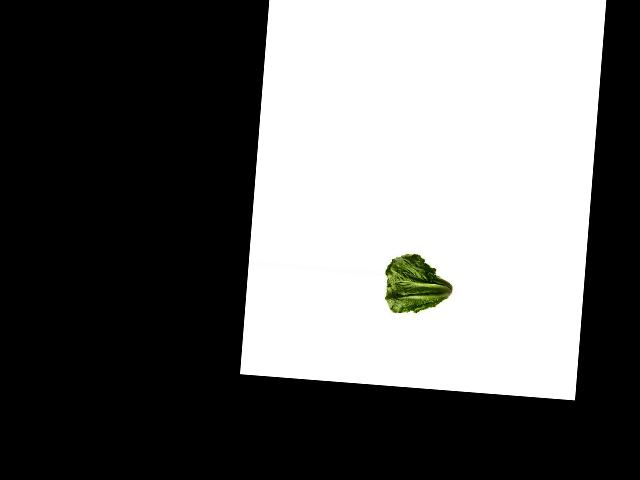lettuce: (381, 249, 458, 315)
